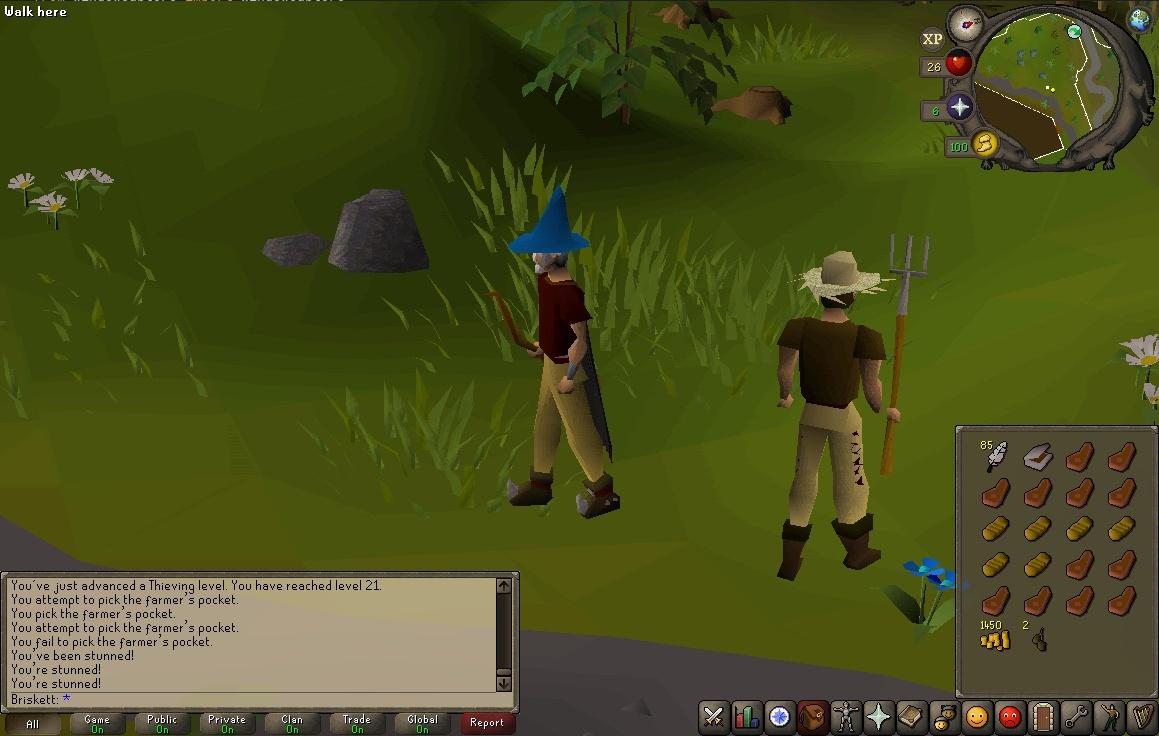Farmer: (775, 250, 901, 582)
